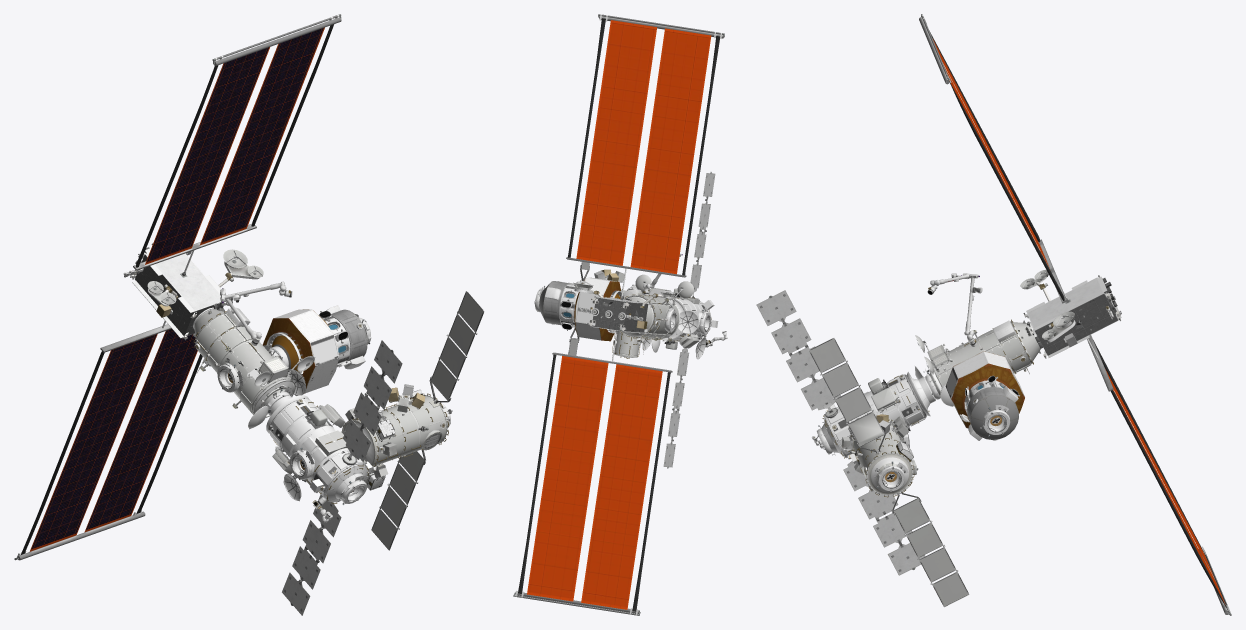
The model's file is gateway-core-optimized.glb.
3 renders of one model, left to right at view 1: azimuth 30°, elevation 25°; view 2: azimuth 150°, elevation 25°; view 3: azimuth 270°, elevation 25°, orthographic. The views are drawn at different scales.
Parts seen in each view (by area): view 1: Maxar_PPE Array, I-Hab, Airlock, NG_HALO.001, ERMXL_LoRes, Maxar_PPE.001, NDS port active hatch.006, NDS port active hatch.007, Big Arm_1; view 2: Maxar_PPE Array, I-Hab, ERMXL_LoRes, Maxar_PPE.001, NG_HALO.001, Airlock, NDS port active hatch.006, NDS port active hatch.007; view 3: Airlock, I-Hab, Maxar_PPE Array, Maxar_PPE.001, ERMXL_LoRes, NG_HALO.001, NDS port active hatch.006, NDS port active hatch.007, Big Arm_1.
Boxes of the visible parts, bbox=[...] form: Maxar_PPE Array: bbox=[14, 14, 341, 560]; I-Hab: bbox=[266, 340, 402, 615]; Airlock: bbox=[341, 291, 484, 550]; NG_HALO.001: bbox=[193, 307, 315, 417]; ERMXL_LoRes: bbox=[262, 305, 367, 393]; Maxar_PPE.001: bbox=[123, 243, 263, 340]; NDS port active hatch.006: bbox=[248, 396, 450, 504]; NDS port active hatch.007: bbox=[217, 314, 371, 414]; Big Arm_1: bbox=[220, 281, 332, 522]; Maxar_PPE Array: bbox=[513, 14, 724, 615]; I-Hab: bbox=[662, 172, 718, 468]; ERMXL_LoRes: bbox=[539, 277, 624, 341]; Maxar_PPE.001: bbox=[573, 281, 675, 333]; NG_HALO.001: bbox=[620, 274, 693, 354]; Airlock: bbox=[568, 262, 650, 358]; NDS port active hatch.006: bbox=[642, 307, 711, 359]; NDS port active hatch.007: bbox=[534, 286, 677, 332]; Airlock: bbox=[809, 338, 969, 607]; I-Hab: bbox=[756, 290, 930, 575]; Maxar_PPE Array: bbox=[919, 14, 1231, 615]; Maxar_PPE.001: bbox=[1020, 269, 1121, 358]; ERMXL_LoRes: bbox=[945, 351, 1024, 440]; NG_HALO.001: bbox=[915, 319, 1040, 396]; NDS port active hatch.006: bbox=[816, 366, 935, 491]; NDS port active hatch.007: bbox=[925, 342, 1010, 436]; Big Arm_1: bbox=[811, 273, 982, 448].
Size of the model in its own units: 17.88 by 38.97 by 30.07.
Materials: 13 (13 with a texture image).
